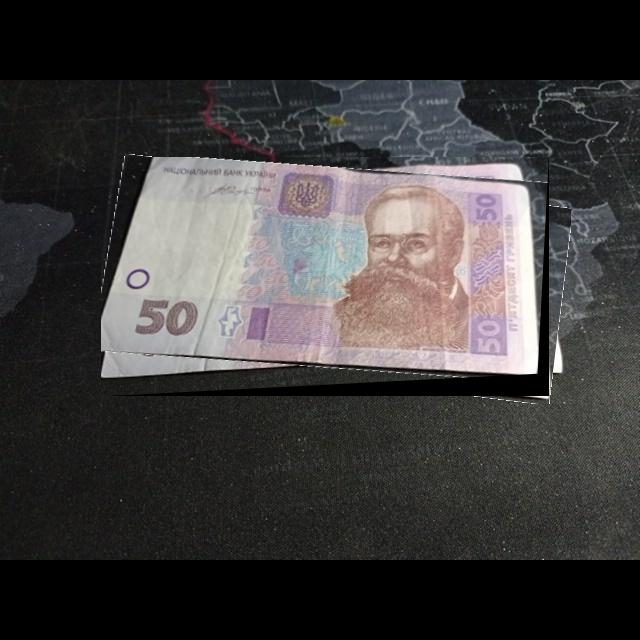50uah: (101, 157, 540, 379)
